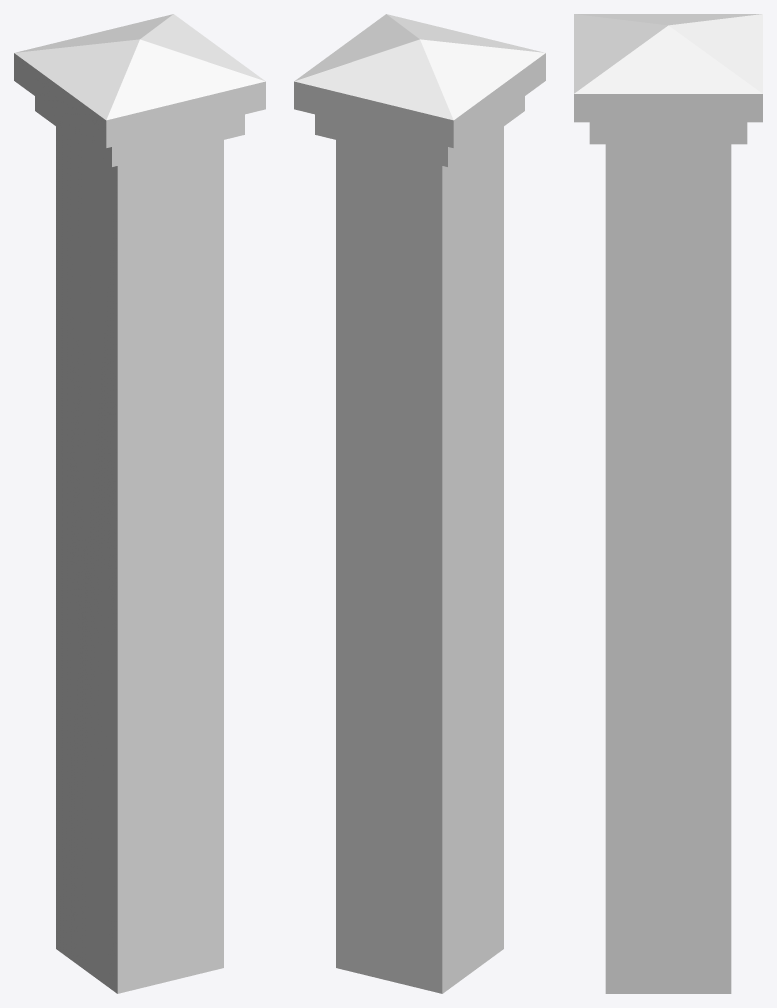
The model's file is SM_fence_101end.gltf.
The picture shows the model from 3 angles, left to right: view 1: azimuth 30°, elevation 25°; view 2: azimuth 150°, elevation 25°; view 3: azimuth 270°, elevation 25°; orthographic projection. The views are drawn at different scales.
Visible parts, largest first — view 1: SM_fence_101end; view 2: SM_fence_101end; view 3: SM_fence_101end.
Part boxes in pixels (x1,y1,x2,y2): SM_fence_101end: (14,14,265,993); SM_fence_101end: (294,14,545,993); SM_fence_101end: (574,14,762,993).
Bounding box in the file's own units: 0.3 × 1.65 × 0.3.
1 material, 1 textured.
